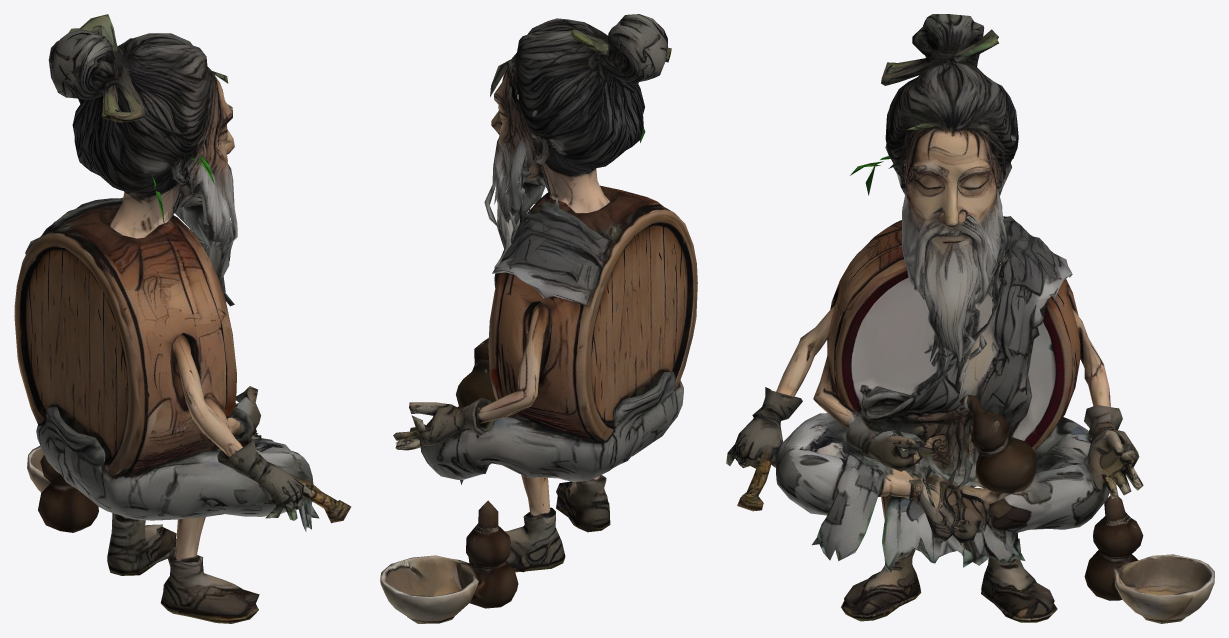
File: a_zhangsanfeng.glb
The picture shows the model from 3 angles, left to right: view 1: azimuth 30°, elevation 25°; view 2: azimuth 150°, elevation 25°; view 3: azimuth 270°, elevation 25°; orthographic projection. The views are drawn at different scales.
Parts seen in each view (by area): view 1: tripo_node_411899ea-0b93-4e7f-bf2f-04a97580eeea; view 2: tripo_node_411899ea-0b93-4e7f-bf2f-04a97580eeea; view 3: tripo_node_411899ea-0b93-4e7f-bf2f-04a97580eeea.
Boxes of the visible parts, box(x1,y1,x2,y2) form: tripo_node_411899ea-0b93-4e7f-bf2f-04a97580eeea: box(14, 14, 351, 623); tripo_node_411899ea-0b93-4e7f-bf2f-04a97580eeea: box(380, 14, 697, 623); tripo_node_411899ea-0b93-4e7f-bf2f-04a97580eeea: box(726, 14, 1214, 623).
Bounding box in the file's own units: 0.3917 × 1 × 0.8036.
1 material, 1 textured.
